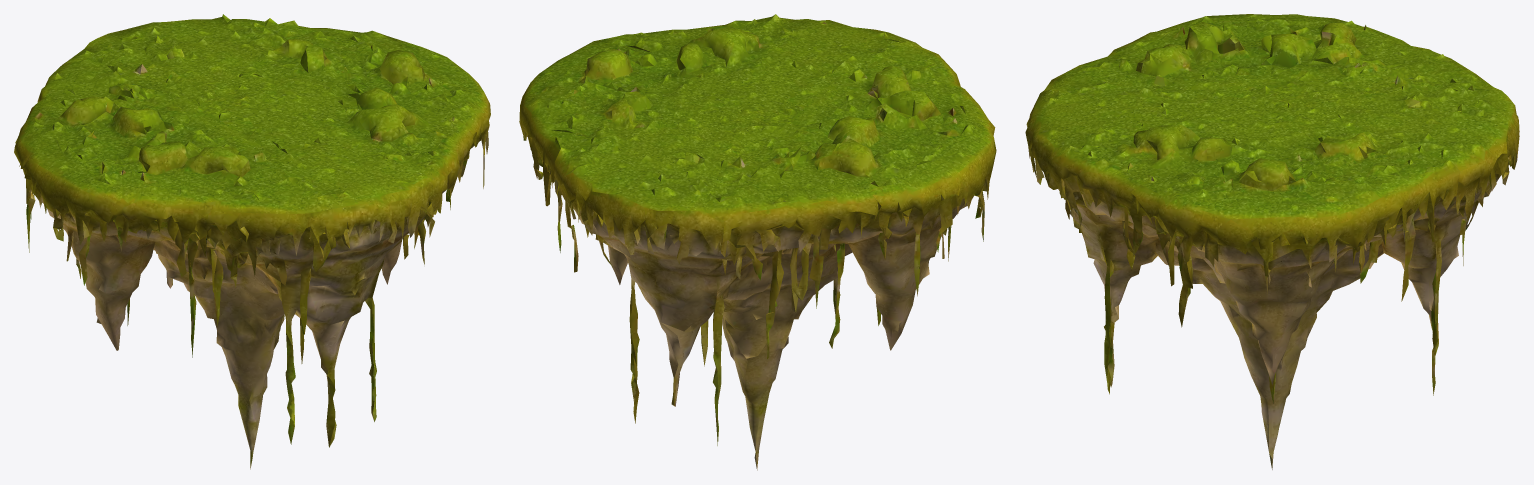
File: isle-spurs-hd.glb
3 renders of one model, left to right at view 1: azimuth 30°, elevation 25°; view 2: azimuth 150°, elevation 25°; view 3: azimuth 270°, elevation 25°, orthographic.
Parts seen in each view (by area): view 1: isle-spurs-hd.raw; view 2: isle-spurs-hd.raw; view 3: isle-spurs-hd.raw.
Boxes of the visible parts, box(x1,y1,x2,y2) form: isle-spurs-hd.raw: box(14, 14, 490, 469); isle-spurs-hd.raw: box(519, 14, 996, 470); isle-spurs-hd.raw: box(1025, 14, 1519, 469).
Size of the model in its own units: 11.82 by 10.01 by 11.71.
1 material, 1 textured.
